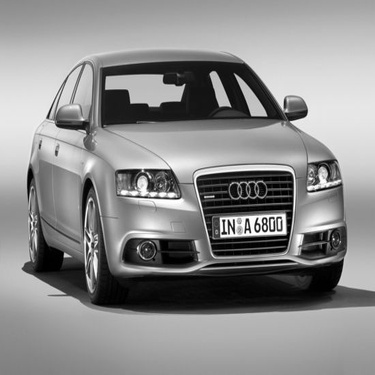car: (14, 43, 356, 312)
